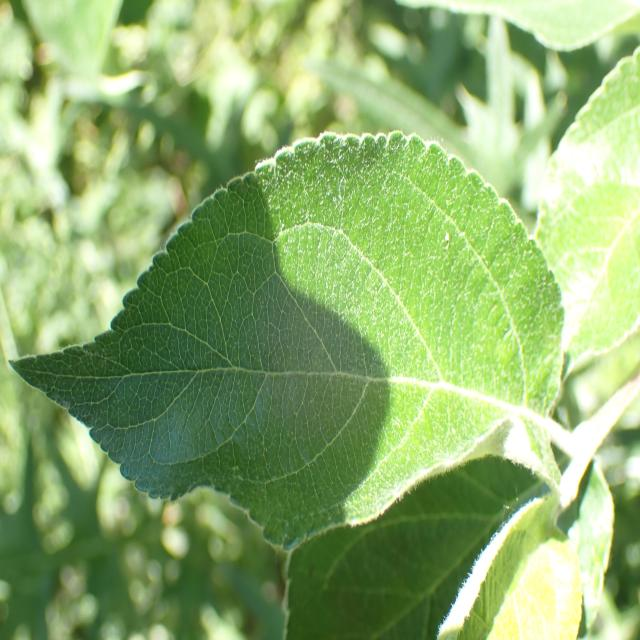healthy: (7, 131, 566, 550), (282, 450, 558, 640), (535, 45, 640, 383), (436, 489, 584, 640)
